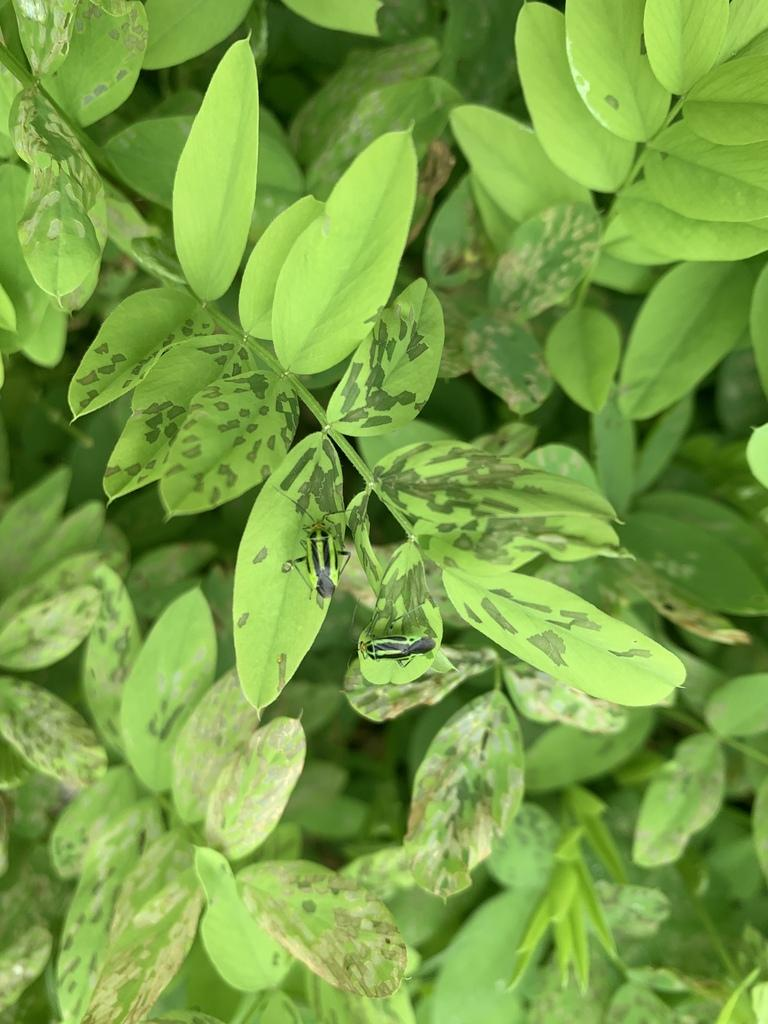plant_bugs: (256, 471, 379, 613), (315, 597, 455, 687)
